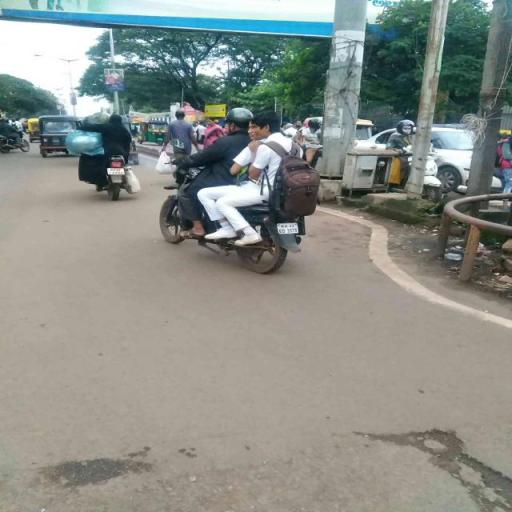tripple riding: (184, 106, 323, 193)
